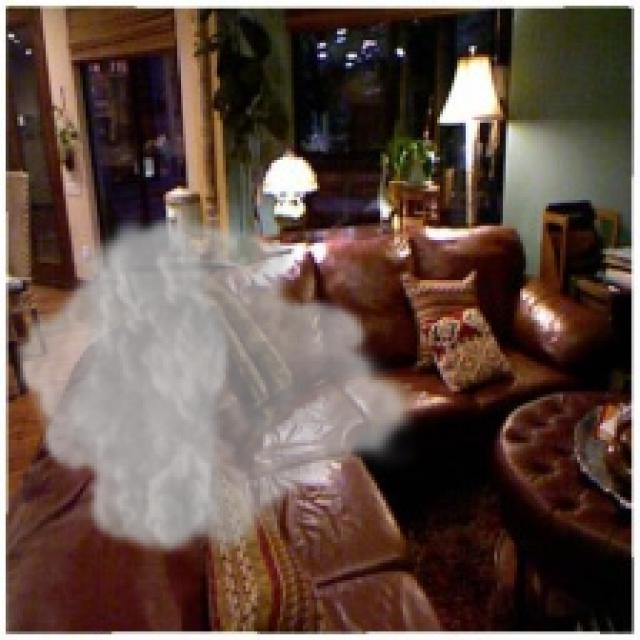smoke: (12, 208, 417, 563)
